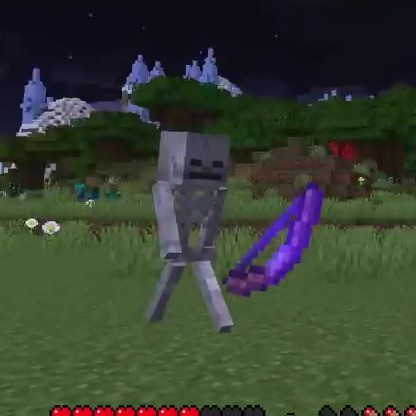skeleton: (153, 130, 234, 330)
